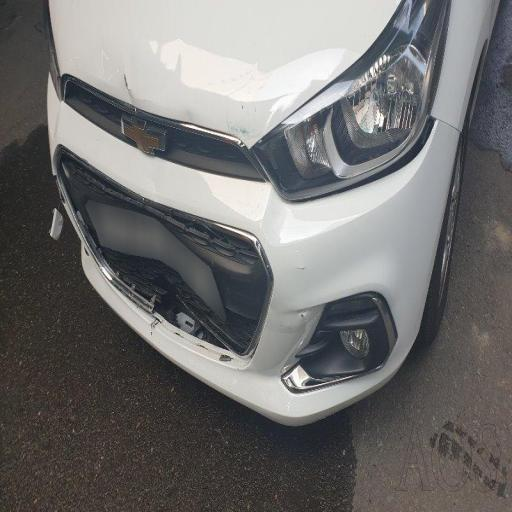broken: (145, 191, 413, 423)
scratch: (140, 33, 362, 149)
